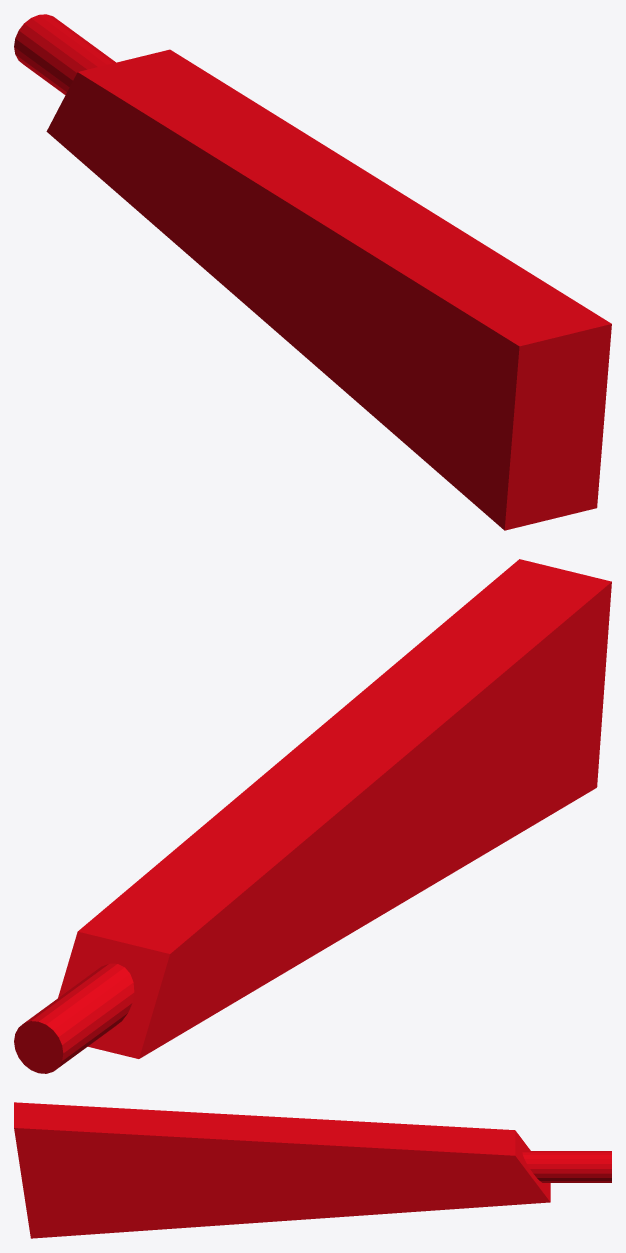
Rendered from laser.fbx.
3 renders of one model, top to bottom at view 1: azimuth 30°, elevation 25°; view 2: azimuth 150°, elevation 25°; view 3: azimuth 270°, elevation 25°, orthographic. The views are drawn at different scales.
Parts seen in each view (by area): view 1: laser; view 2: laser; view 3: laser.
Part boxes in pixels (x1,y1,x2,y2): laser: [14, 14, 611, 530]; laser: [14, 559, 611, 1073]; laser: [14, 1102, 611, 1238].
Size of the model in its own units: 9.37 by 18.89 by 92.48.
